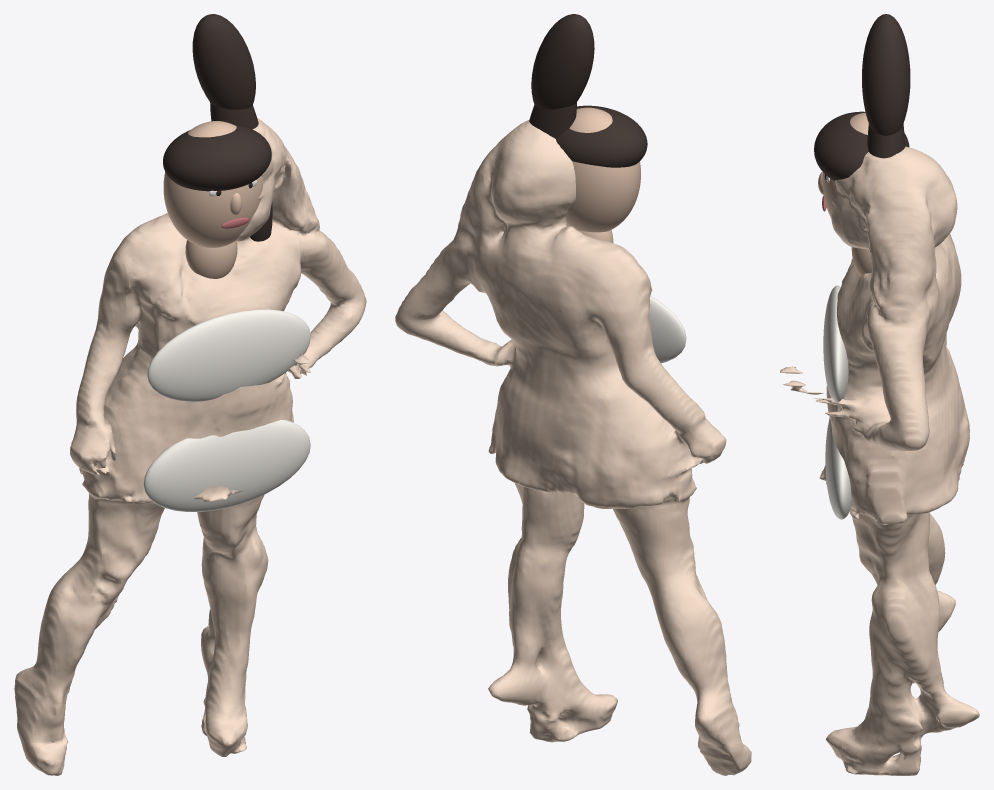
The model's file is hybrid-ariana-avatar.glb.
3 renders of one model, left to right at view 1: azimuth 30°, elevation 25°; view 2: azimuth 150°, elevation 25°; view 3: azimuth 270°, elevation 25°, orthographic. The views are drawn at different scales.
Parts seen in each view (by area): view 1: pifuhd_body_base, clean_crop_top_overlay, clean_skirt_overlay, hair_cap, clear_stylized_head, high_ponytail_volume, smooth_neck, falling_hair_shape; view 2: pifuhd_body_base, clear_stylized_head, high_ponytail_volume, hair_cap, clean_crop_top_overlay, falling_hair_shape; view 3: pifuhd_body_base, high_ponytail_volume, hair_cap, clean_crop_top_overlay, clean_skirt_overlay, falling_hair_shape, clear_stylized_head, smooth_neck.
Boxes of the visible parts, x1=… form: pifuhd_body_base: x1=14, y1=118, x2=366, y2=775; clean_crop_top_overlay: x1=147, y1=309, x2=310, y2=401; clean_skirt_overlay: x1=143, y1=420, x2=310, y2=511; hair_cap: x1=163, y1=125, x2=271, y2=191; clear_stylized_head: x1=163, y1=121, x2=263, y2=247; high_ponytail_volume: x1=192, y1=14, x2=255, y2=109; smooth_neck: x1=185, y1=240, x2=237, y2=278; falling_hair_shape: x1=210, y1=102, x2=272, y2=241; pifuhd_body_base: x1=395, y1=119, x2=751, y2=775; clear_stylized_head: x1=565, y1=107, x2=640, y2=232; high_ponytail_volume: x1=531, y1=14, x2=594, y2=109; hair_cap: x1=556, y1=105, x2=647, y2=167; clean_crop_top_overlay: x1=649, y1=296, x2=686, y2=363; falling_hair_shape: x1=529, y1=102, x2=576, y2=138; pifuhd_body_base: x1=780, y1=146, x2=979, y2=775; high_ponytail_volume: x1=862, y1=14, x2=910, y2=135; hair_cap: x1=814, y1=111, x2=909, y2=180; clean_crop_top_overlay: x1=823, y1=285, x2=848, y2=402; clean_skirt_overlay: x1=825, y1=417, x2=851, y2=519; falling_hair_shape: x1=867, y1=123, x2=905, y2=251; clear_stylized_head: x1=822, y1=112, x2=868, y2=217; smooth_neck: x1=851, y1=247, x2=872, y2=276.
Bounding box in the file's own units: 1.01 × 2.04 × 0.4915.
